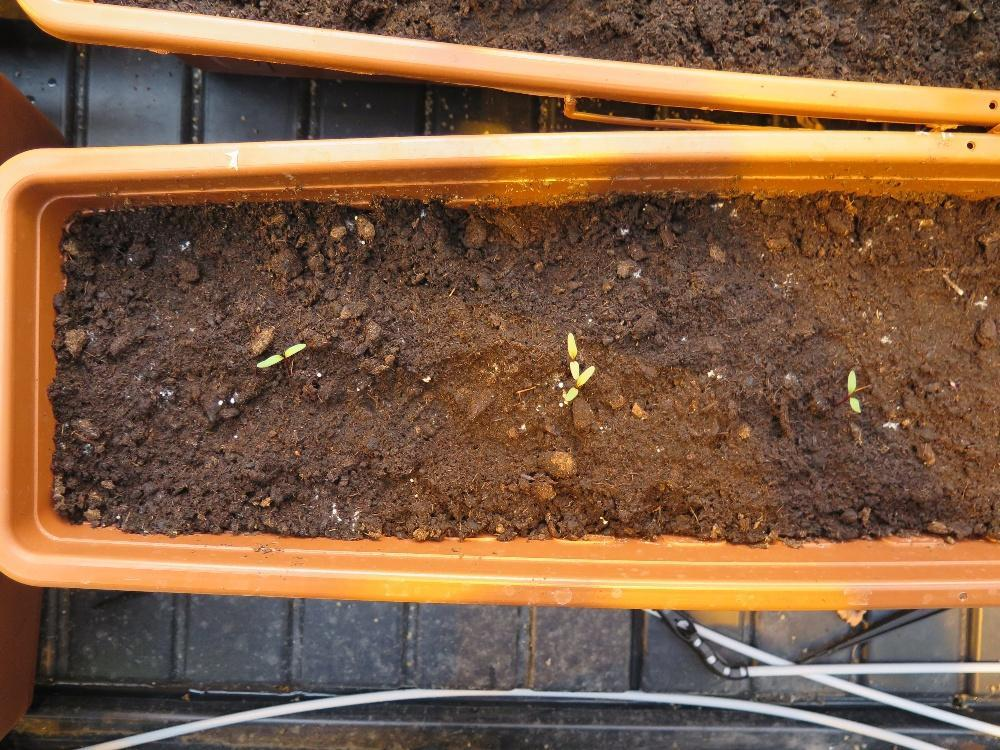crop: (254, 340, 306, 368), (845, 368, 861, 413)
